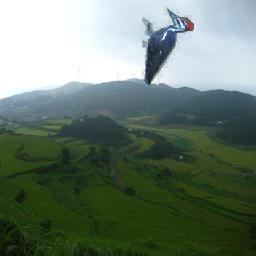Woodpecker: (142, 6, 194, 86)
